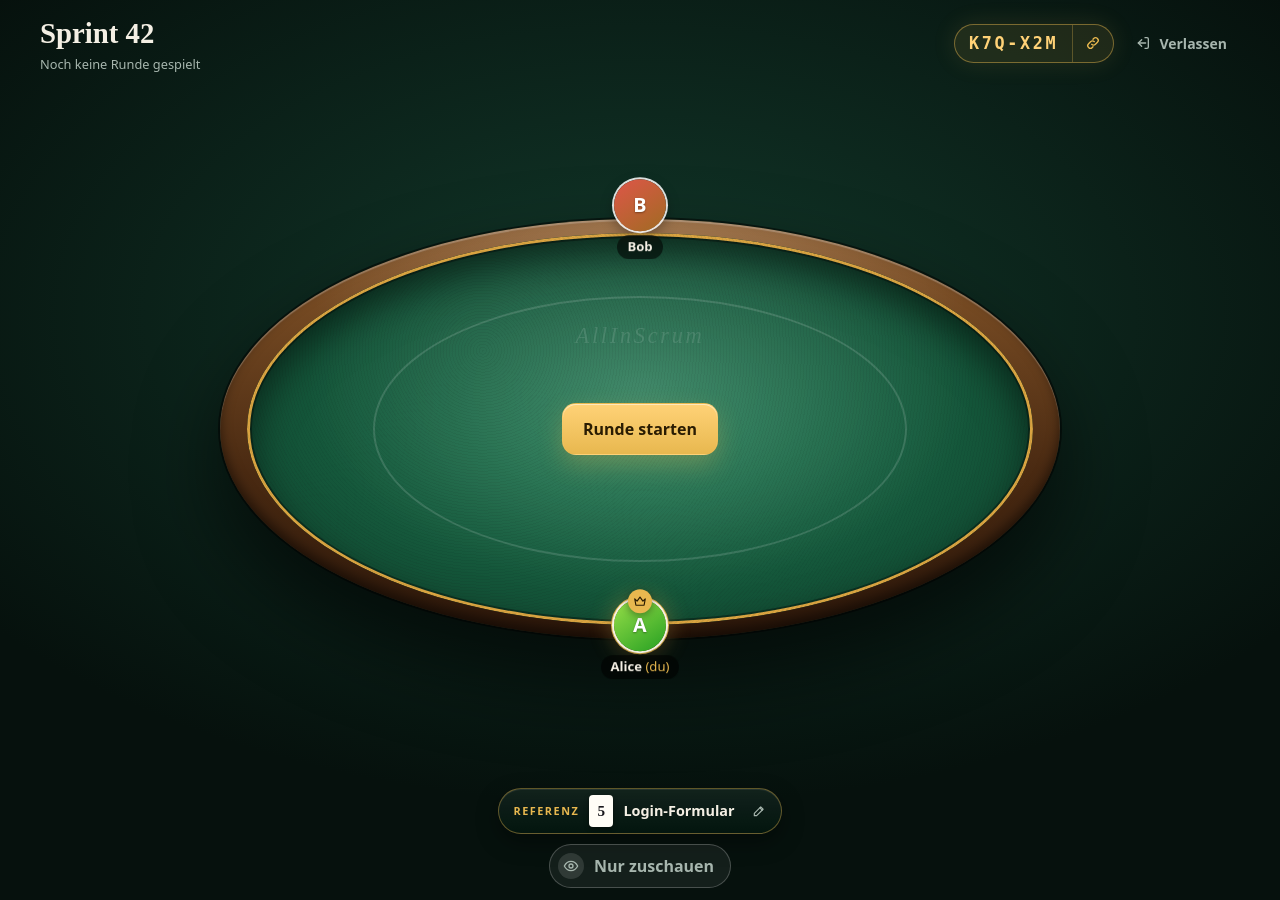
Test case: Pokertisch › Referenzstory › verwirft die Bearbeitung beim Abbrechen
The width and height of the screenshot is (1280, 900).
Click the button named "Referenzstory bearbeiten" at (758, 811), box [744,797,772,825]
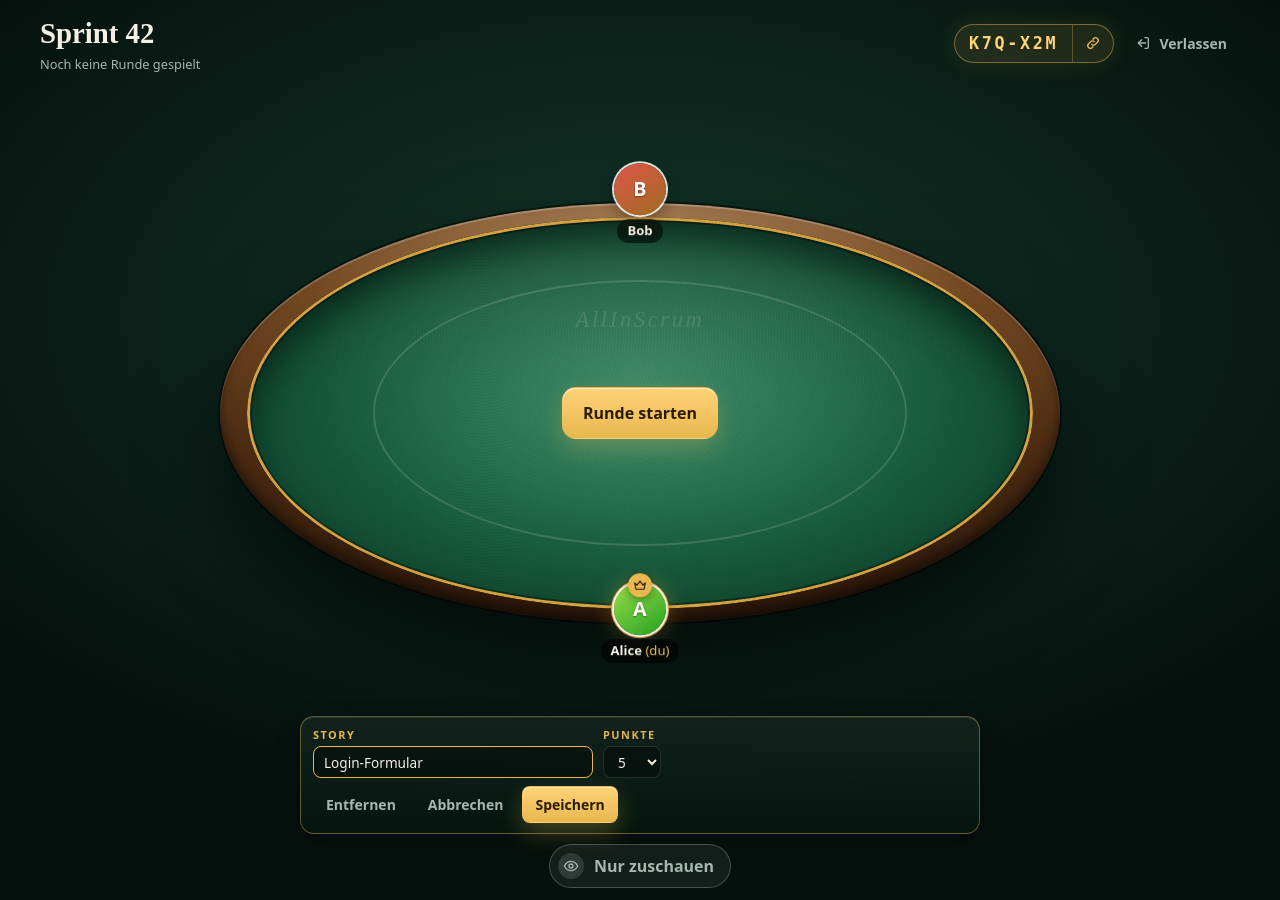
Click the button "Abbrechen" at (466, 804), box [415,786,516,823]
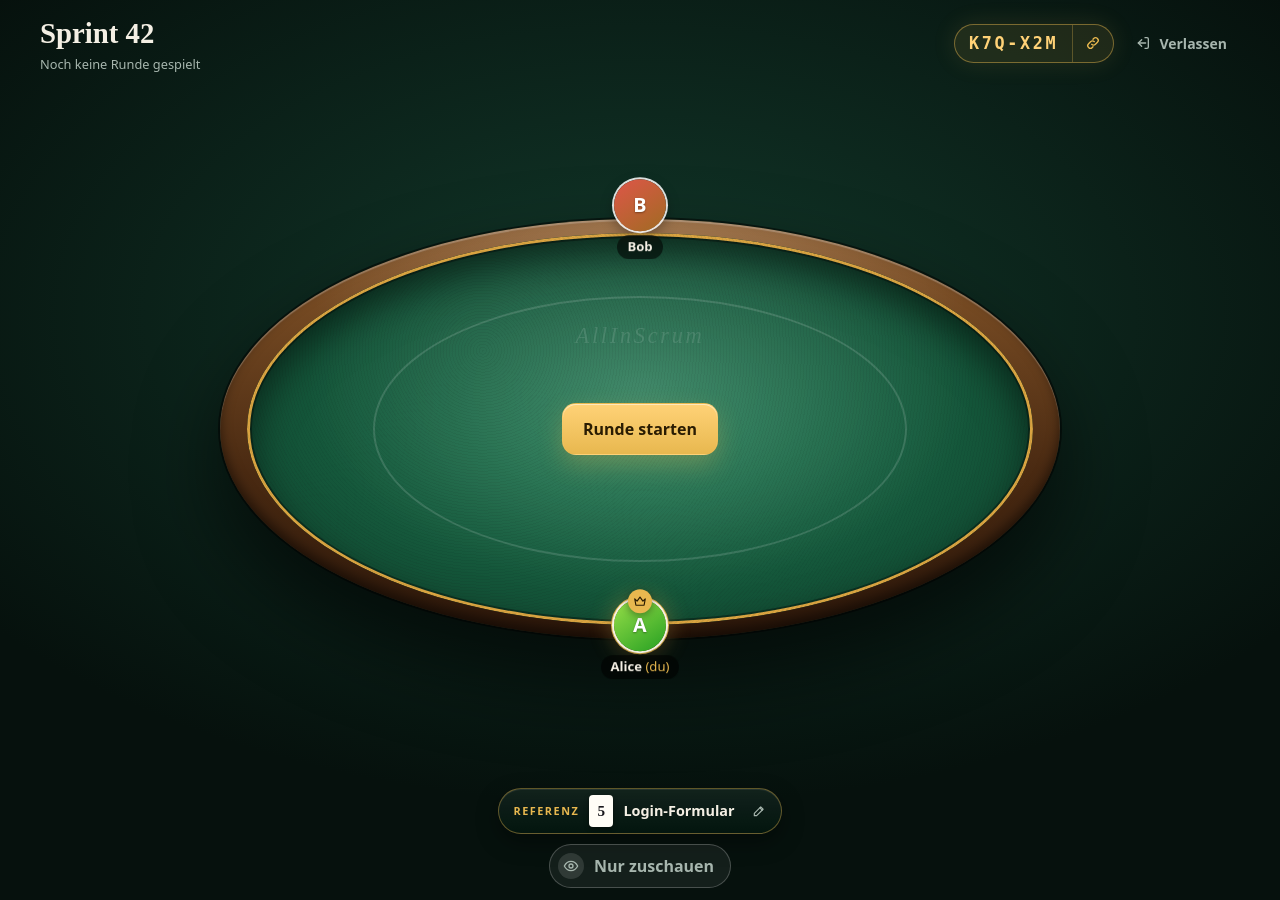
Expected: the element named "Referenzstory" shows "Login-Formular", [623,801,735,820]
